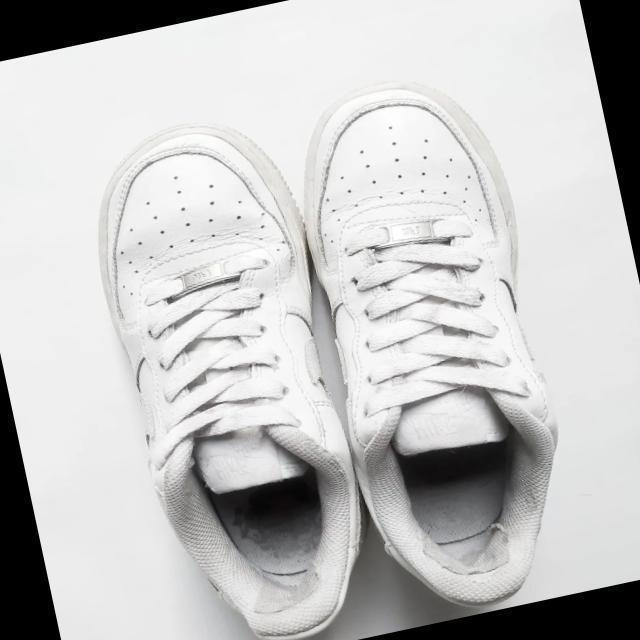nike fake air force: (269, 54, 598, 628), (60, 97, 389, 640)
